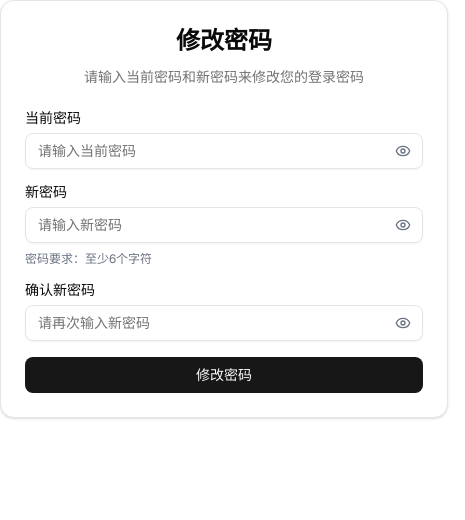
ChangePasswordForm › 表单验证 › 应该显示错误当当前密码为空
This screenshot has width=465, height=520.
Click the button "修改密码". click: x=224, y=375
box: [25,357,423,393]
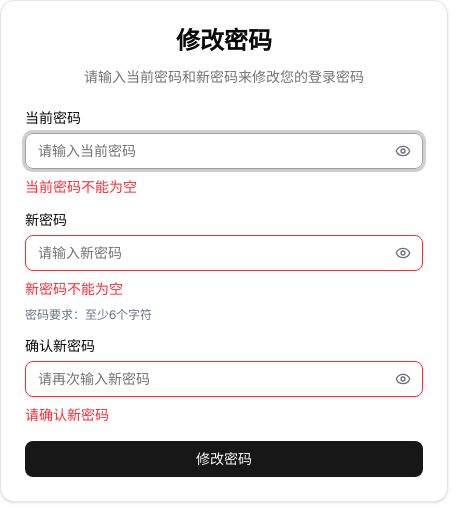
Expected: the text "当前密码不能为空" is shown, [25,178,137,196]
